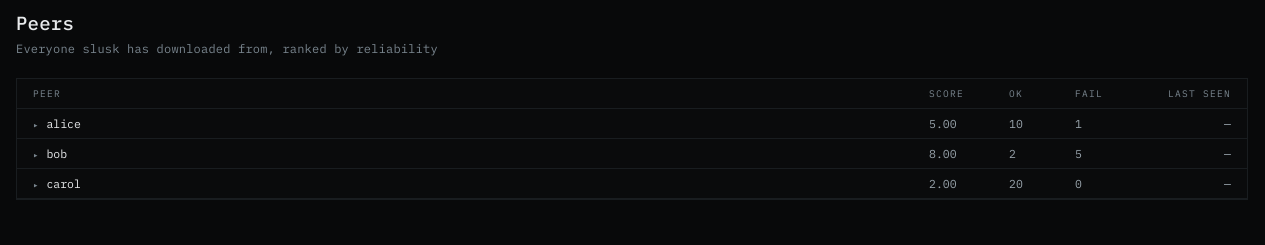
it: Peers row expansion › only expands one peer at a time
Click the text "alice": [64, 124] box [46,116,81,131]
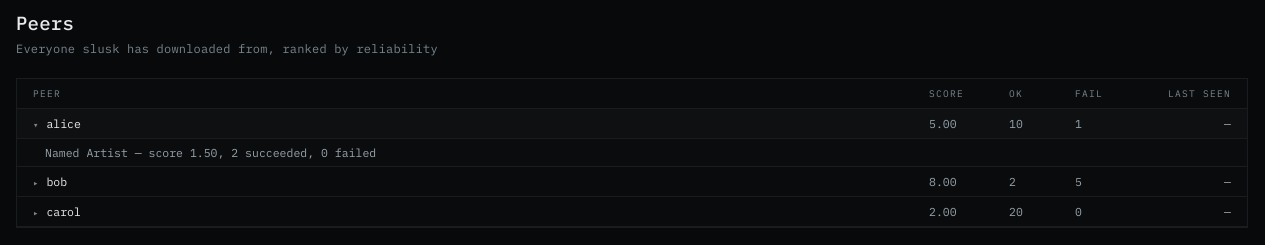
Click the text "bob": [57, 182] box [46,174,67,189]
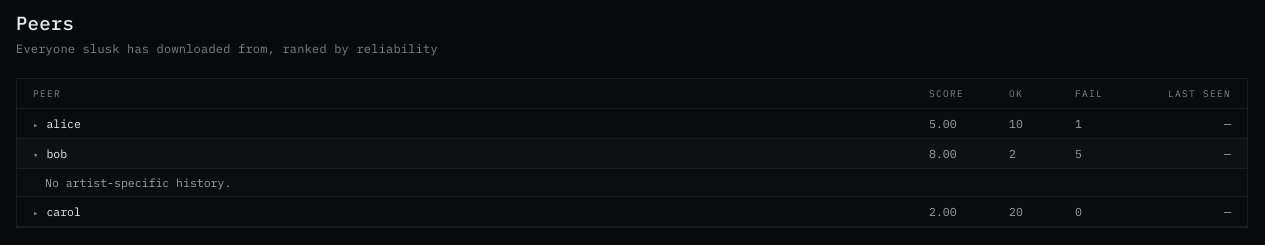
Check: the text "No artist-specific history." is shown, box [45,175,231,190]
